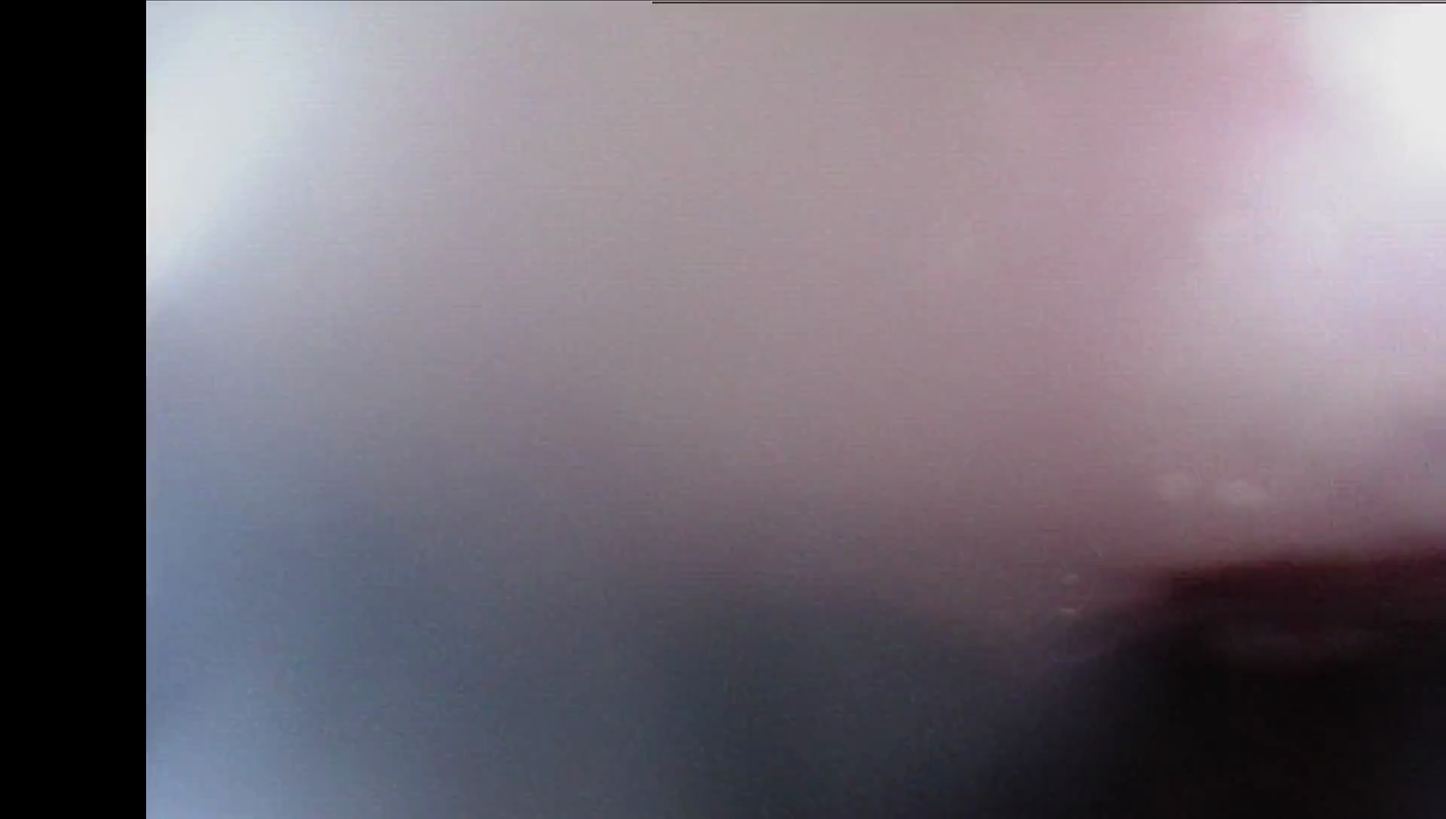close_wall: (157, 0, 1446, 506)
next: (1023, 513, 1446, 819)
